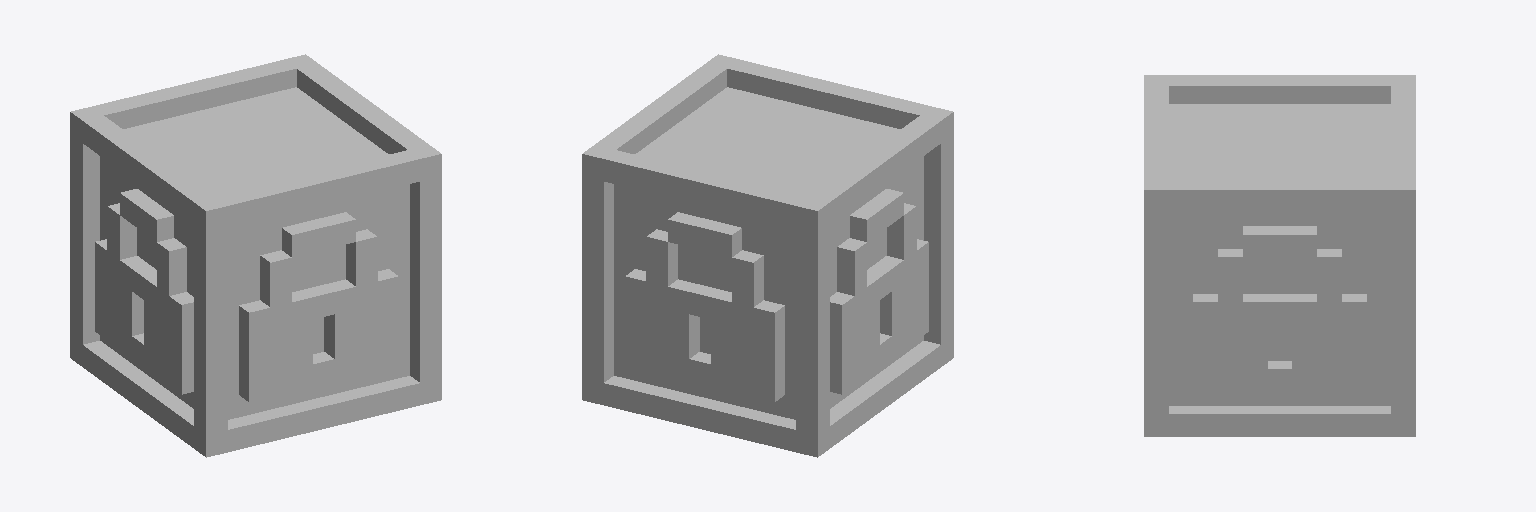
File: lock-box.obj
The picture shows the model from 3 angles: view 1: azimuth 30°, elevation 25°; view 2: azimuth 150°, elevation 25°; view 3: azimuth 270°, elevation 25°; orthographic projection.
Visible parts, largest first — view 1: Cube; view 2: Cube; view 3: Cube.
Part boxes in pixels (x1,y1,x2,y2): Cube: (70,54,441,457); Cube: (582,54,953,457); Cube: (1144,75,1415,436).
Bounding box in the file's own units: 2 × 2 × 2.